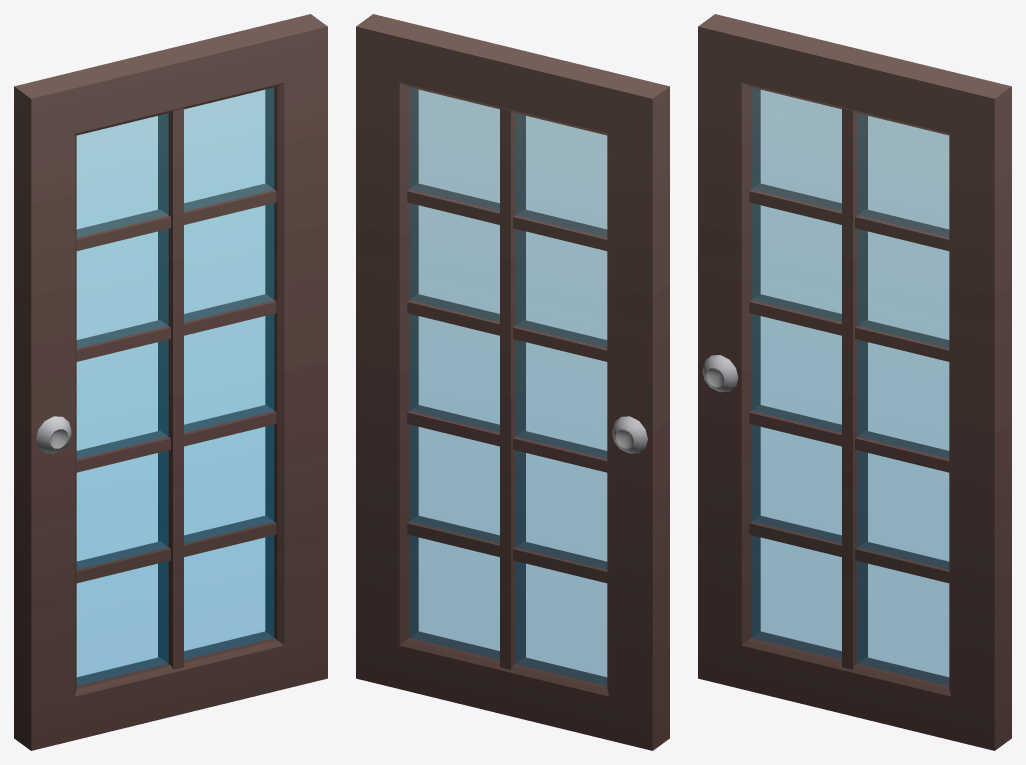
The model's file is Door_Brown_06.glb.
3 renders of one model, left to right at view 1: azimuth 30°, elevation 25°; view 2: azimuth 150°, elevation 25°; view 3: azimuth 330°, elevation 25°, orthographic.
Visible parts, largest first — view 1: Door_Brown_06; view 2: Door_Brown_06; view 3: Door_Brown_06.
Boxes of the visible parts, left/top/right/bottom form: Door_Brown_06: left=14, top=14, right=327, bottom=750; Door_Brown_06: left=356, top=14, right=669, bottom=750; Door_Brown_06: left=698, top=14, right=1011, bottom=750.
Size of the model in its own units: 1 by 2.1 by 0.1634.
Materials: 2 (2 with a texture image).
